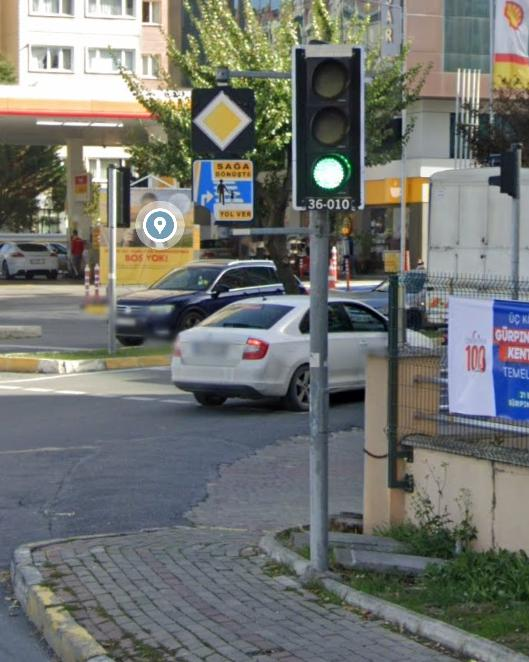greenlight: (296, 44, 365, 215)
